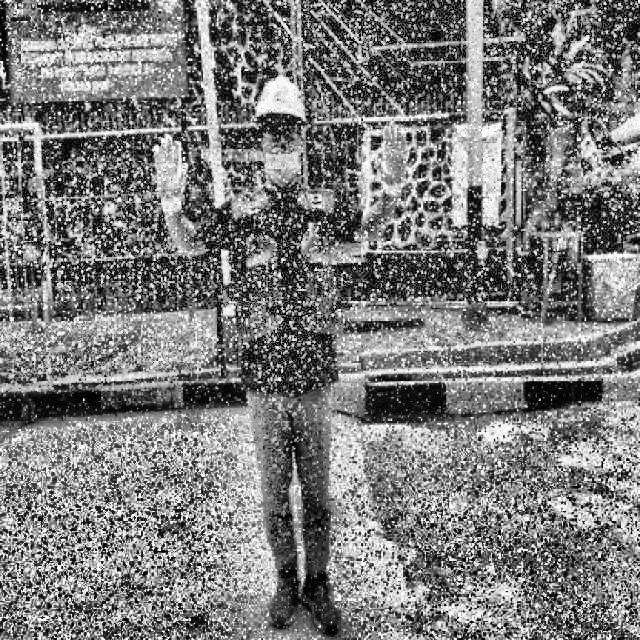safety_helmet: (248, 77, 306, 122)
safety_jacket: (232, 234, 346, 343)
